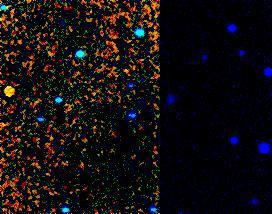star: (0, 78, 29, 108)
